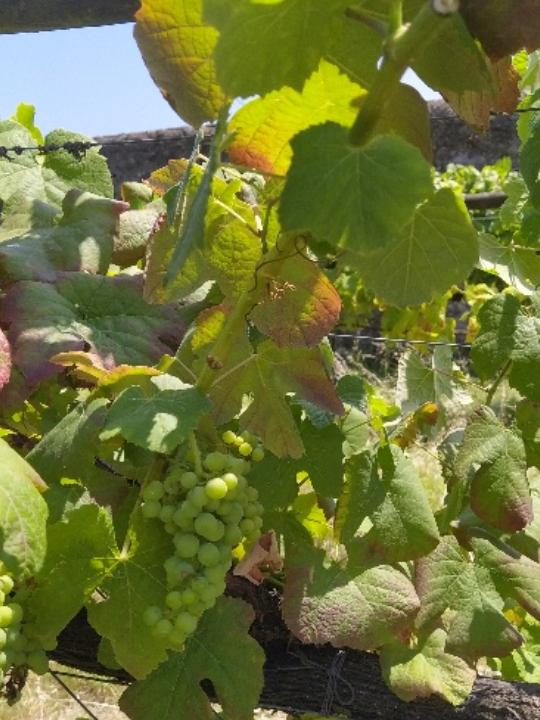grape: (139, 428, 269, 646), (0, 534, 18, 720)
